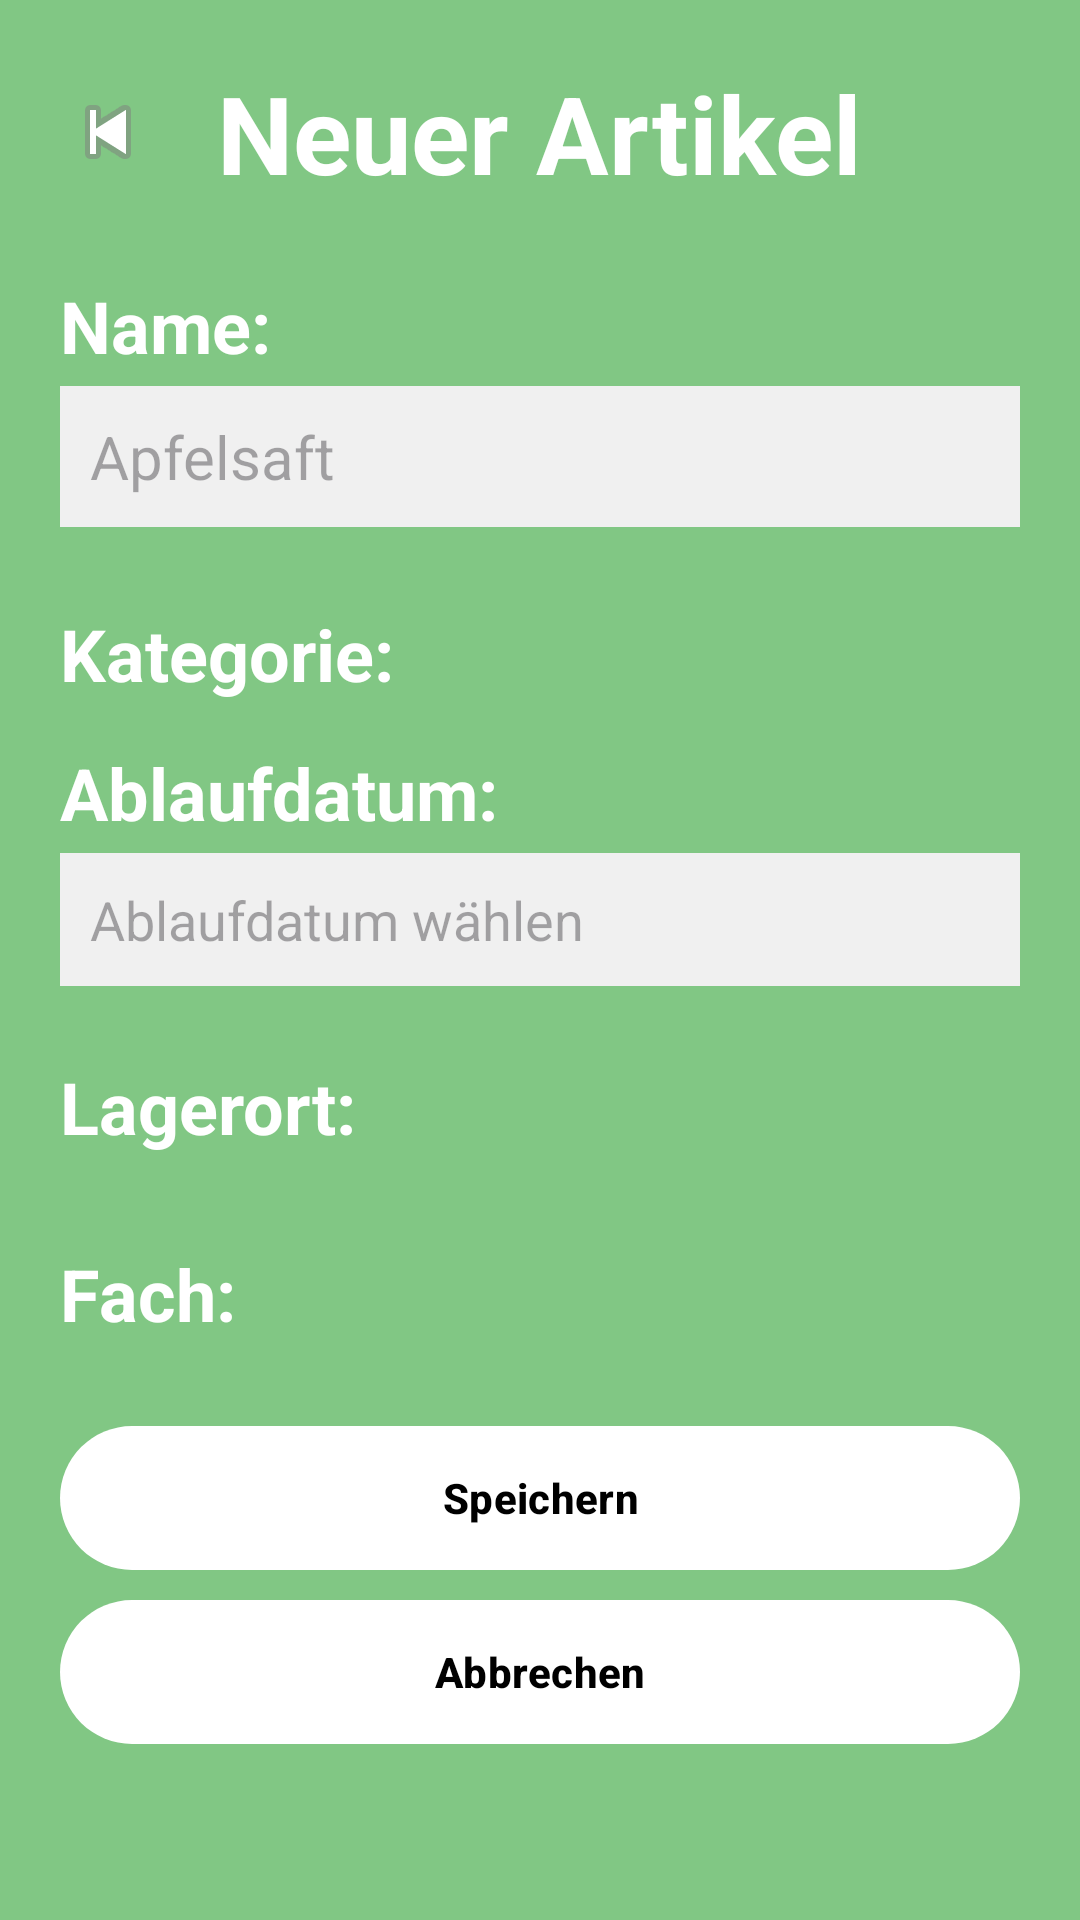

Named icons in this screenshot (1080px x 1920px) and their centers, point (x, y):
Zurück: point (108, 132)
